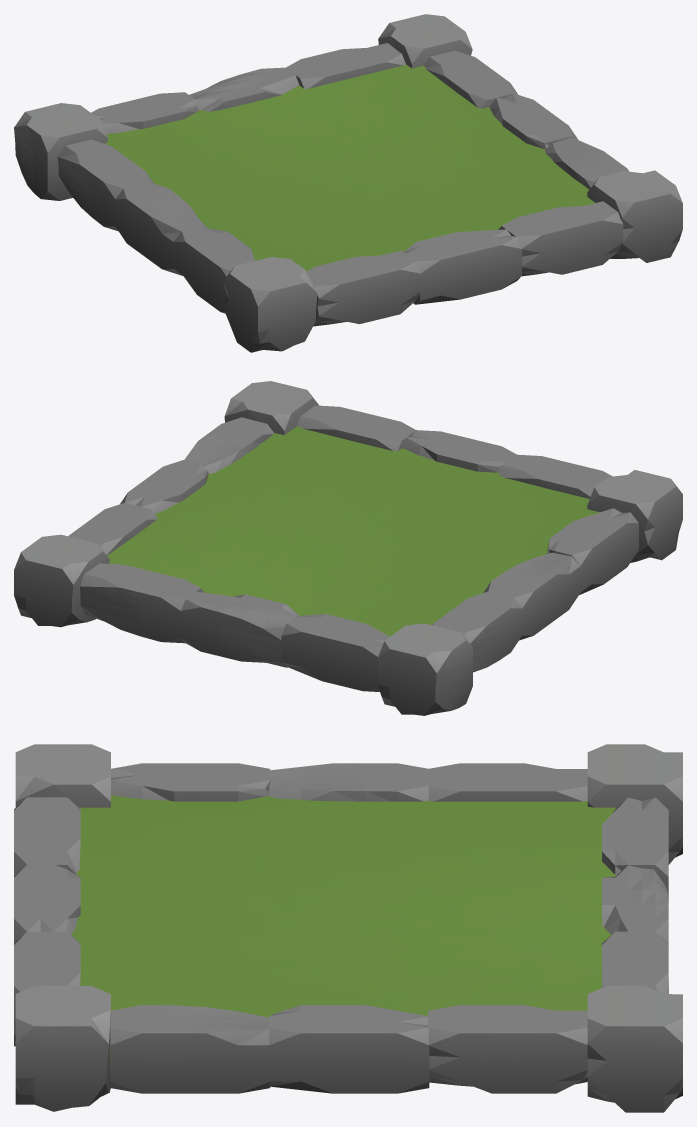
File: moving_platform.glb
3 views of the same model, one above another, from view 1: azimuth 30°, elevation 25°; view 2: azimuth 150°, elevation 25°; view 3: azimuth 270°, elevation 25° (orthographic). The views are drawn at different scales.
Visible parts, largest first — view 1: Cube, Cube.003, Cube.012, Cube.011, Cube.013, Cube.002, Cube.005, Cube.006, Cube.004, Cube.007, Cube.001, Cube.010 (+5 smaller); view 2: Cube, Cube.005, Cube.010, Cube.009, Cube.008, Cube.001, Cube.003, Cube.007, Cube.006, Cube.004, Cube.011, Cube.002 (+5 smaller); view 3: Cube, Cube.014, Cube.015, Cube.016, Cube.002, Cube.001, Cube.005, Cube.004, Cube.006, Cube.007, Cube.003, Cube.013 (+5 smaller).
Boxes of the visible parts, x1=… form: Cube: x1=104, y1=64, x2=594, y2=271; Cube.003: x1=223, y1=257, x2=317, y2=352; Cube.012: x1=404, y1=229, x2=521, y2=304; Cube.011: x1=498, y1=201, x2=623, y2=276; Cube.013: x1=306, y1=250, x2=420, y2=326; Cube.002: x1=587, y1=170, x2=682, y2=262; Cube.005: x1=14, y1=103, x2=108, y2=200; Cube.006: x1=115, y1=182, x2=206, y2=275; Cube.004: x1=57, y1=139, x2=153, y2=231; Cube.007: x1=173, y1=227, x2=255, y2=313; Cube.001: x1=378, y1=14, x2=472, y2=68; Cube.010: x1=286, y1=43, x2=405, y2=88; Cube: x1=107, y1=426, x2=599, y2=636; Cube.005: x1=377, y1=623, x2=472, y2=715; Cube.010: x1=80, y1=563, x2=204, y2=643; Cube.009: x1=181, y1=591, x2=299, y2=667; Cube.008: x1=281, y1=614, x2=389, y2=691; Cube.001: x1=14, y1=534, x2=109, y2=627; Cube.003: x1=587, y1=470, x2=682, y2=562; Cube.007: x1=547, y1=508, x2=638, y2=594; Cube.006: x1=483, y1=552, x2=580, y2=640; Cube.004: x1=432, y1=591, x2=522, y2=672; Cube.011: x1=297, y1=405, x2=416, y2=451; Cube.002: x1=224, y1=381, x2=319, y2=435; Cube: x1=71, y1=795, x2=616, y2=1067; Cube.014: x1=110, y1=1005, x2=270, y2=1093; Cube.015: x1=269, y1=1005, x2=429, y2=1093; Cube.016: x1=428, y1=1005, x2=587, y2=1093; Cube.002: x1=15, y1=986, x2=110, y2=1111; Cube.001: x1=587, y1=986, x2=682, y2=1112; Cube.005: x1=587, y1=744, x2=682, y2=864; Cube.004: x1=428, y1=763, x2=587, y2=801; Cube.006: x1=269, y1=763, x2=429, y2=801; Cube.007: x1=111, y1=763, x2=270, y2=801; Cube.003: x1=15, y1=744, x2=110, y2=807; Cube.013: x1=14, y1=797, x2=80, y2=875.
Size of the model in its own units: 4.2 by 0.6107 by 4.21.
1 material, 1 textured.
